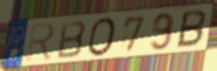7: (123, 14, 145, 53)
9: (150, 10, 176, 52)
B: (175, 9, 208, 50), (56, 19, 88, 60)
O: (87, 16, 118, 58)
R: (25, 21, 57, 63)
